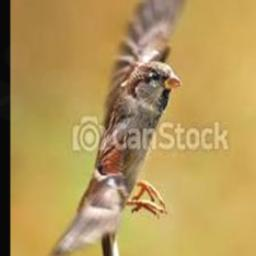Sparrow: (48, 0, 188, 256)
